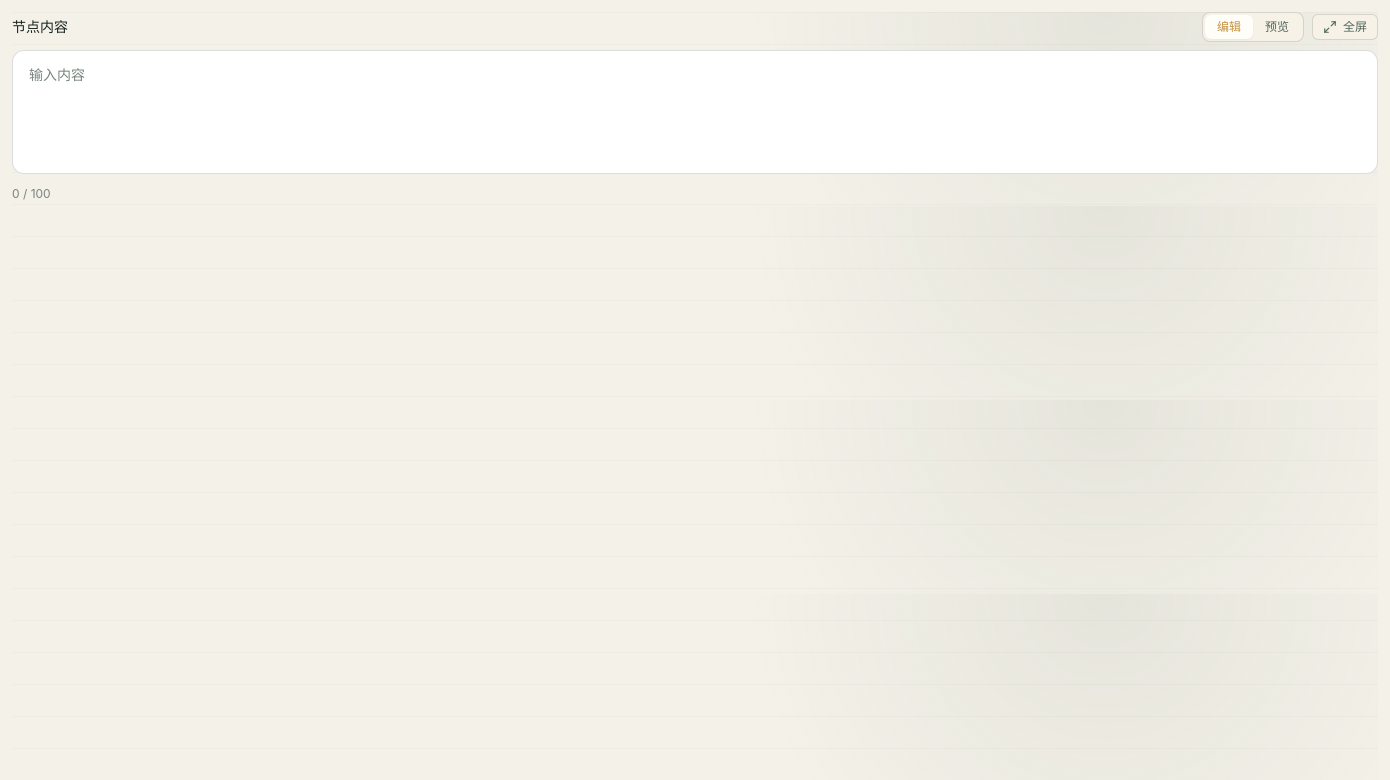
MarkdownEditorField › Ctrl+Shift+V 在编辑与预览间切换并保留焦点与光标
This screenshot has width=1390, height=780.
Type "# 快捷键切换" into the text box labelled "节点内容".
click(695, 112); type("# 快捷键切换")  # box [12, 50, 1378, 174]
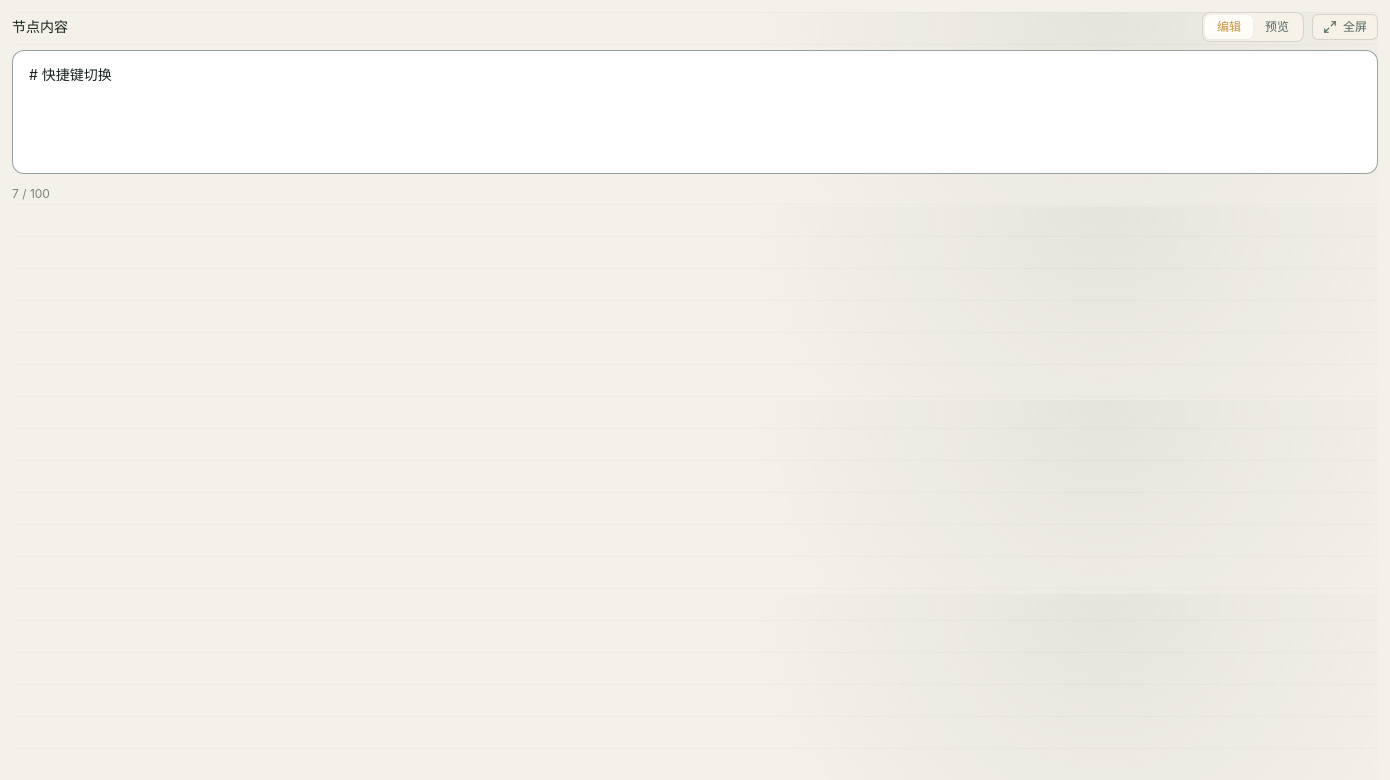
Type keys "{Control>}{Shift>}v{/Shift}{/Control}"
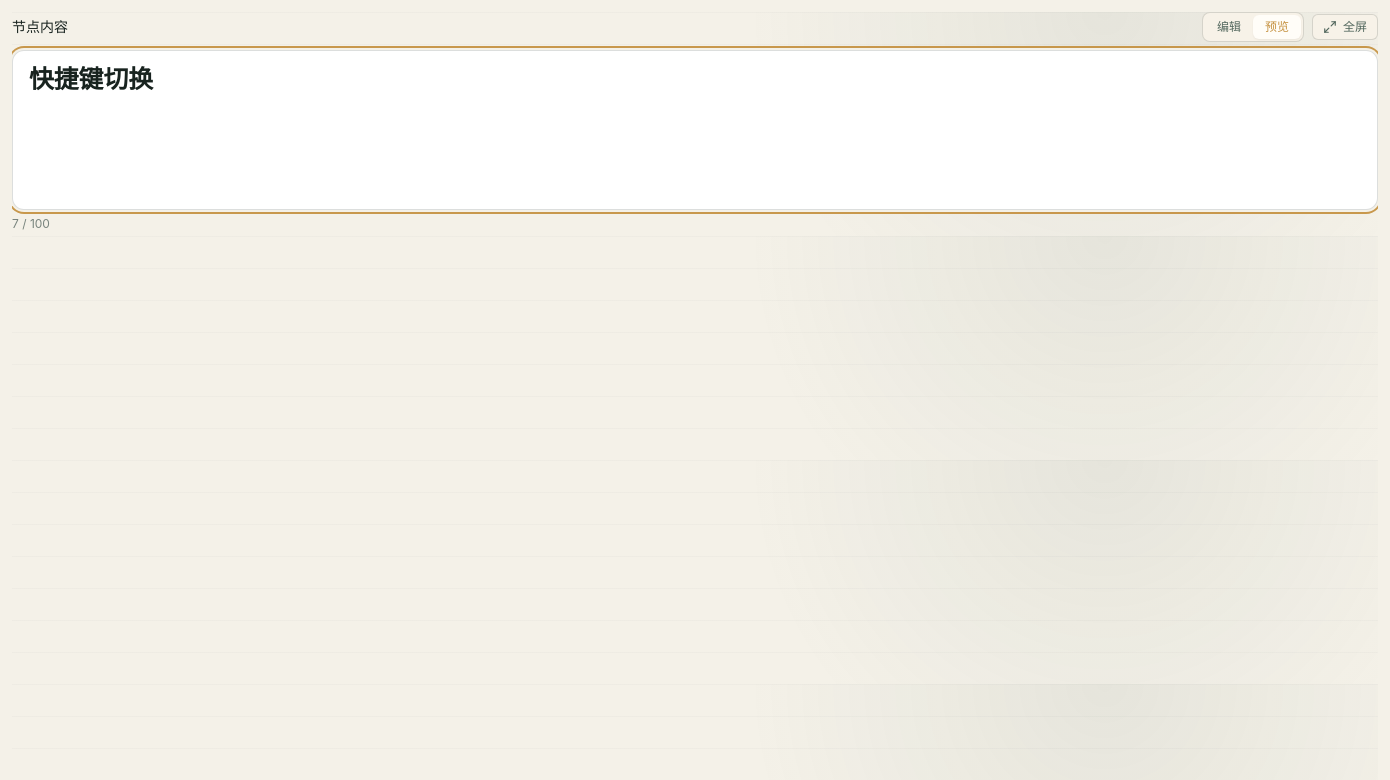
Now the heading "快捷键切换" is shown, box [29, 66, 153, 93]
Type keys "{Control>}{Shift>}v{/Shift}{/Control}"
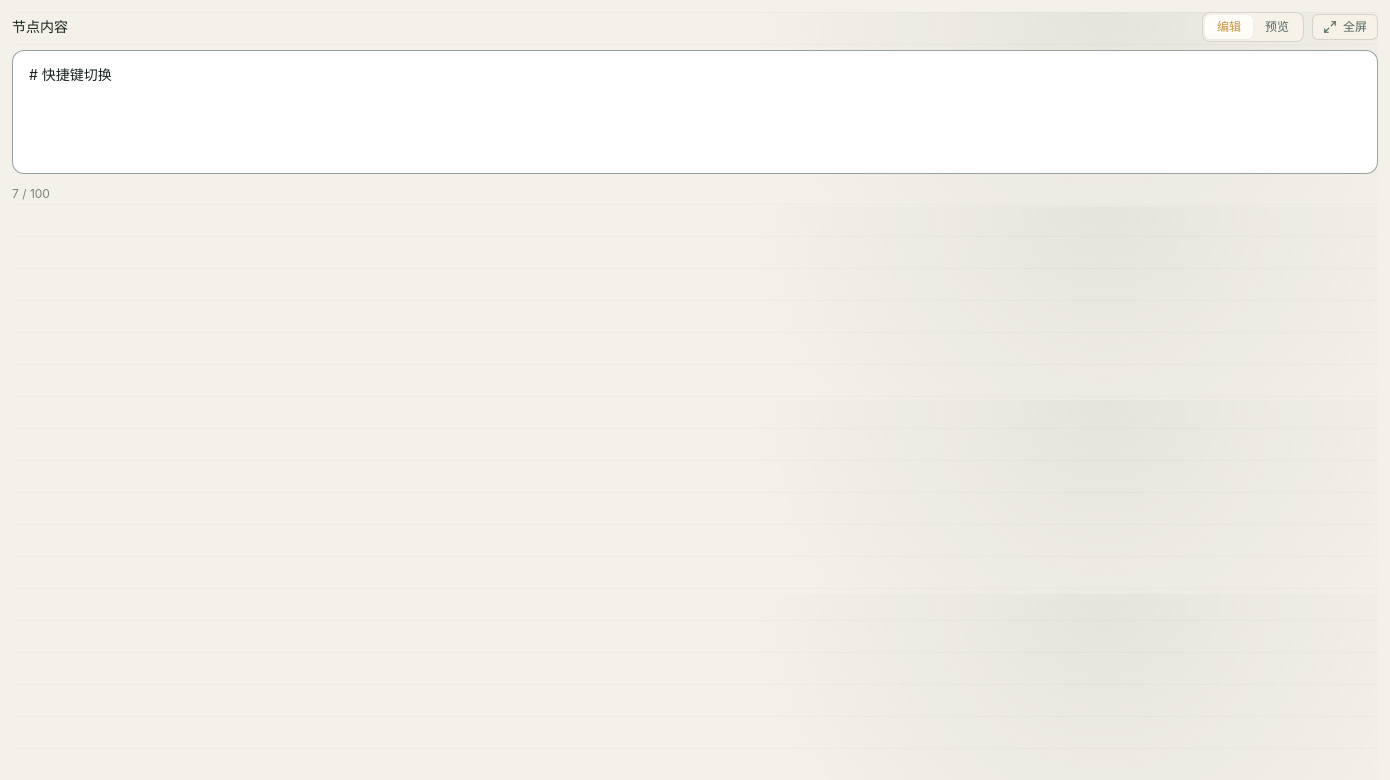
Now the text box labelled "节点内容" holds "# 快捷键切换", box [12, 50, 1378, 174]
